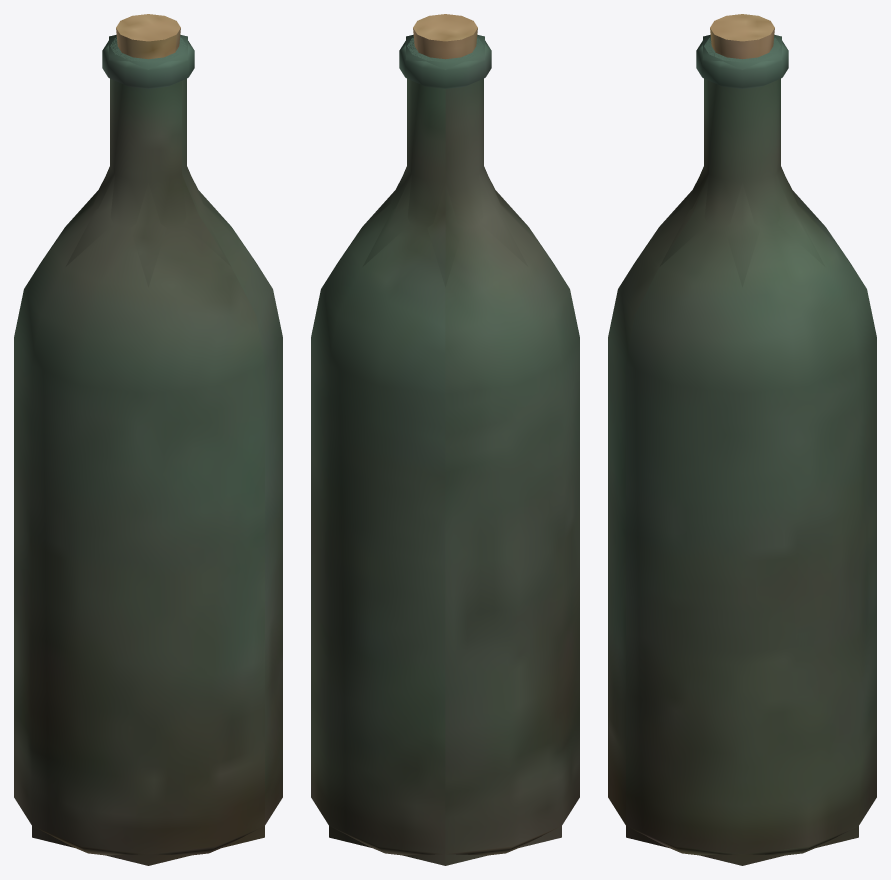
The model's file is Bottle.glb.
3 renders of one model, left to right at view 1: azimuth 30°, elevation 25°; view 2: azimuth 150°, elevation 25°; view 3: azimuth 270°, elevation 25°, orthographic.
Visible parts, largest first — view 1: Bottle; view 2: Bottle; view 3: Bottle.
Part boxes in pixels (x1,y1,x2,y2): Bottle: [14, 14, 282, 865]; Bottle: [311, 14, 579, 865]; Bottle: [608, 14, 876, 865].
Size of the model in its own units: 0.094 by 0.3013 by 0.094.
Materials: 1 (1 with a texture image).
